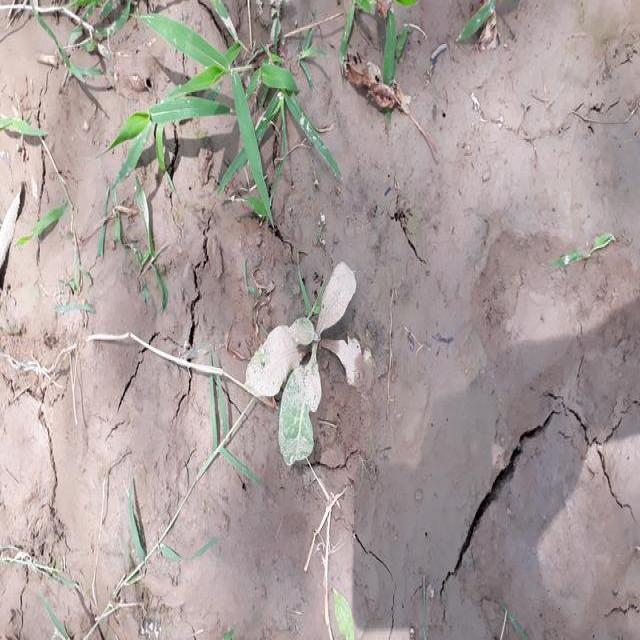crop: (252, 258, 368, 454)
